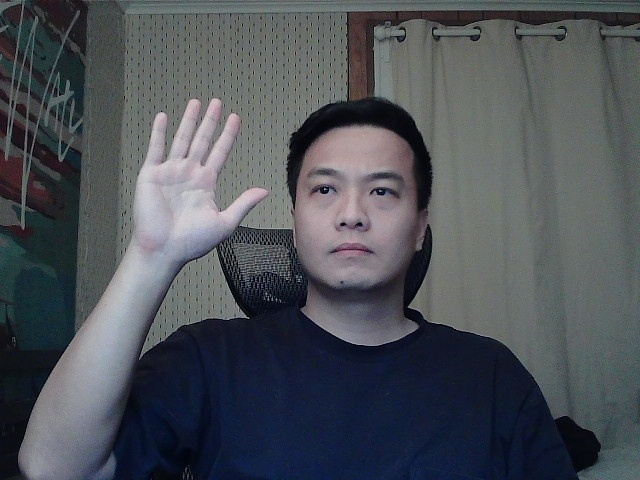Hello: (128, 86, 273, 271)
